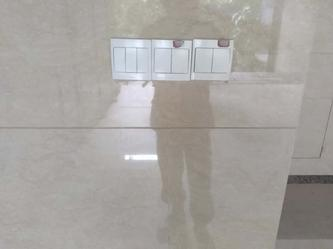switch: (194, 45, 213, 74), (154, 46, 172, 74), (213, 46, 230, 75), (172, 47, 189, 75), (111, 44, 126, 72), (126, 44, 137, 74), (137, 47, 148, 72)
